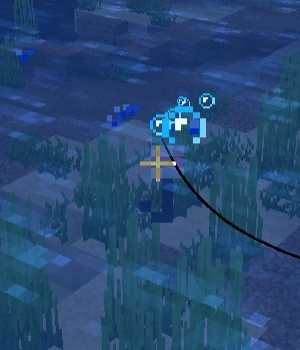down: (148, 143, 188, 222)
